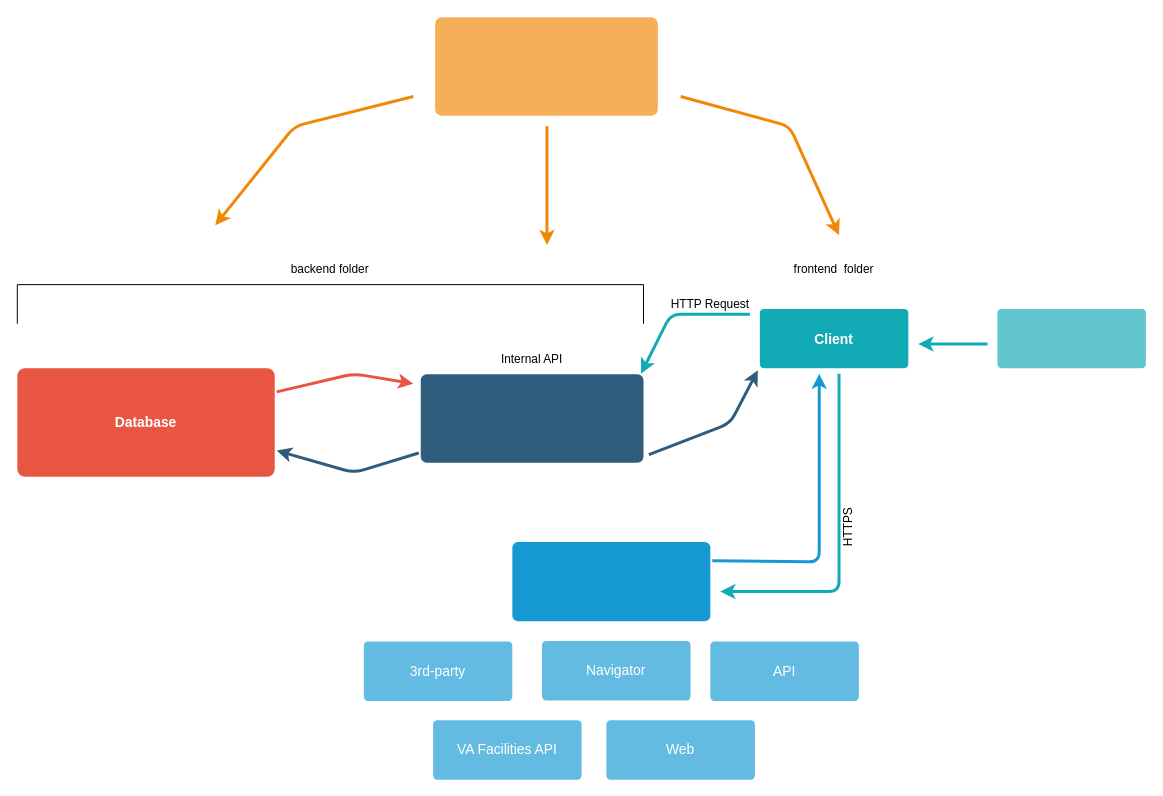
Image size: 1163x796. Some labels were removed from this diagram. The shapes that lost their labels are listed below. From the top down, each one's box as (x1, y1, x2, y2) in pixels, then its label:
(435, 17, 657, 115): Model View Controller
(997, 308, 1145, 368): User
(420, 374, 643, 462): API (API/VA/State)
(512, 542, 710, 621): External API
